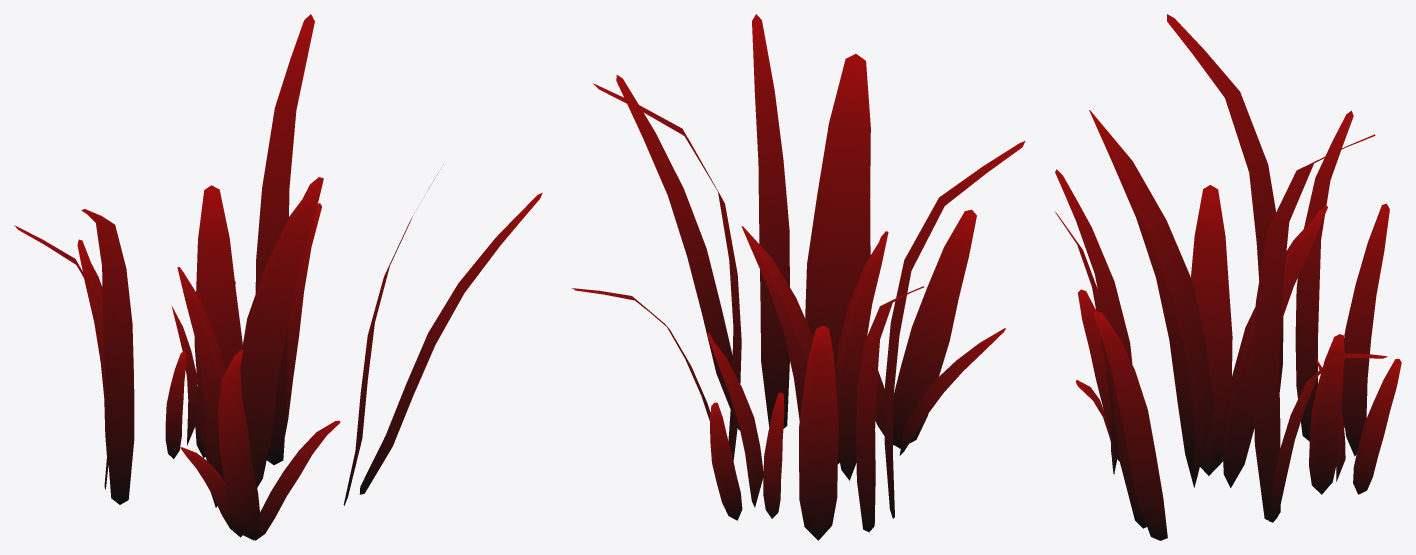
File: game_grass2_LOD0.fbx
3 views of the same model, side by side, from view 1: azimuth 30°, elevation 25°; view 2: azimuth 150°, elevation 25°; view 3: azimuth 270°, elevation 25° (orthographic). The views are drawn at different scales.
Parts seen in each view (by area): view 1: Plane.016; view 2: Plane.016; view 3: Plane.016.
Boxes of the visible parts, x1,y1,x2,y2 form: Plane.016: (14,14,542,540); Plane.016: (571,14,1025,540); Plane.016: (1055,14,1401,540).
Bounding box in the file's own units: 6.2 × 5.52 × 4.01.
